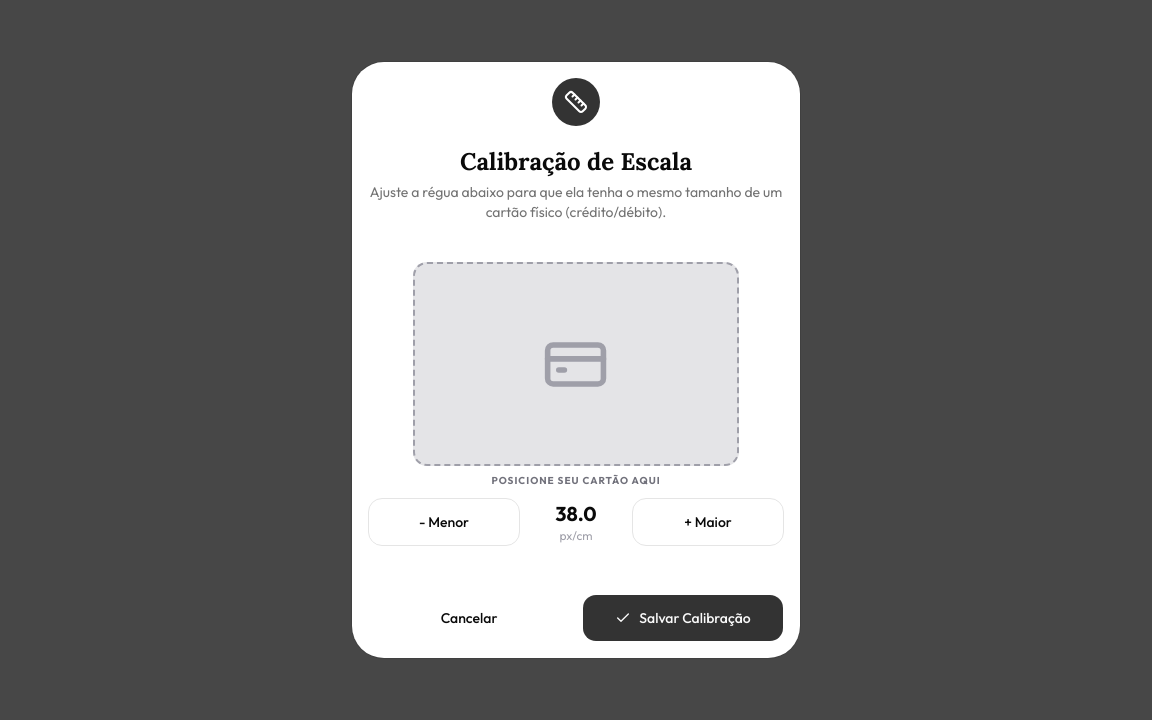
Test case: CalibrationOverlay › should increase pixelsPerCm when clicking "+ Maior"
Click the button "+ Maior": (708, 522) x1=632 y1=498 x2=784 y2=546
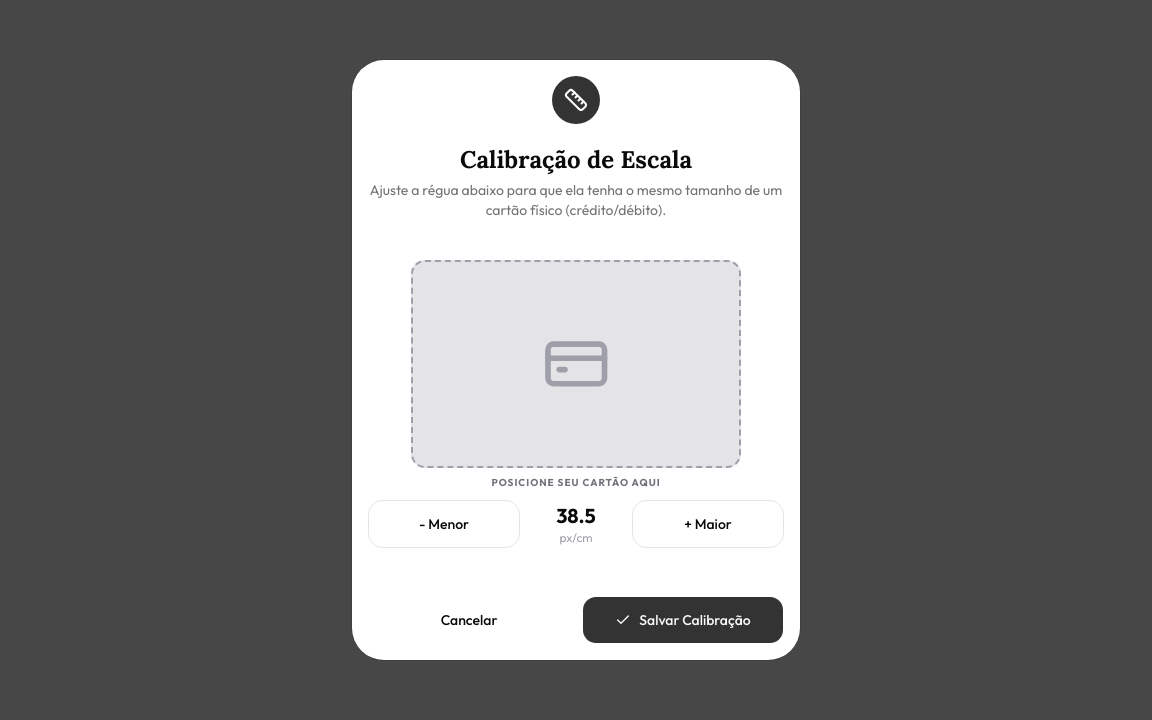
Check: the text "38.5" is shown, box x1=556 y1=503 x2=596 y2=528
